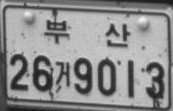0: (96, 57, 117, 97)
1: (120, 59, 140, 99)
2: (9, 52, 28, 91)
3: (145, 60, 165, 99)
6: (31, 54, 53, 91)
9: (72, 56, 93, 95)
거: (55, 60, 71, 87)
부산_D: (43, 18, 131, 49)
